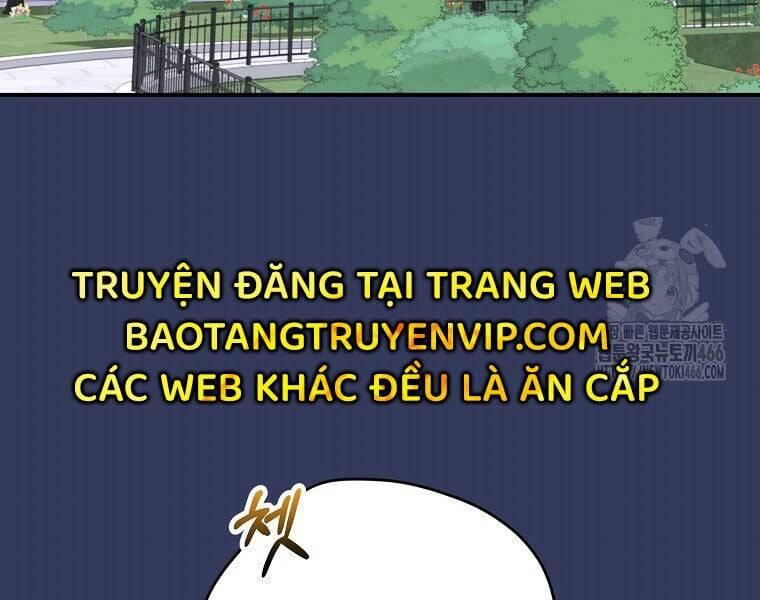quangcao: (71, 259, 664, 407)
